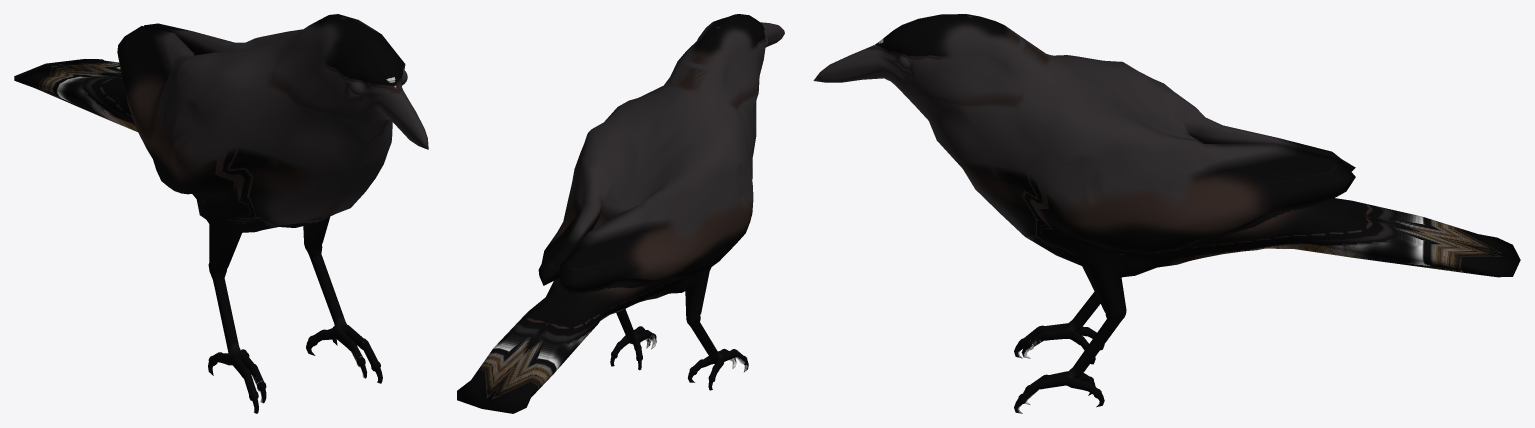
The model's file is crow.gltf.
3 renders of one model, left to right at view 1: azimuth 30°, elevation 25°; view 2: azimuth 150°, elevation 25°; view 3: azimuth 270°, elevation 25°, orthographic. The views are drawn at different scales.
Visible parts, largest first — view 1: CROW; view 2: CROW; view 3: CROW.
Boxes of the visible parts, x1,y1,x2,y2 form: CROW: [14, 14, 428, 413]; CROW: [457, 14, 784, 413]; CROW: [813, 14, 1520, 413].
Size of the model in its own units: 1.01 by 1.87 by 3.24.
1 material, 1 textured.
